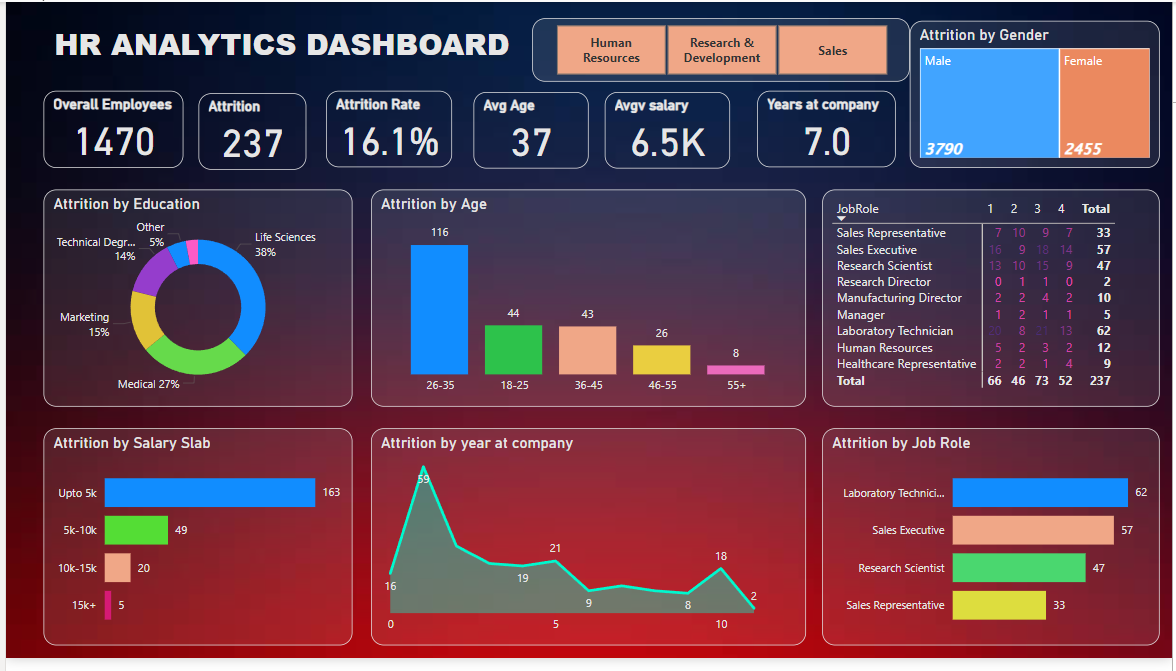

The page's visual inventory and layout, read from the dashboard file:
{"tool":"powerbi","page":{"name":"Page 1","canvas":[1280,720],"ordinal":0},"visuals":[{"type":"card","title":"Overall Employees","fields":{"Values":["Sum(HR_Analytics.EmployeeCount)"]},"box":[41.2,97.4,153.7,85.1],"z":0},{"type":"card","title":"Avg Age","fields":{"Values":["Avg(HR_Analytics.Age)"]},"box":[513.2,98.8,126.2,83.7],"z":1000},{"type":"card","title":"Attrition Rate","fields":{"Values":["HR_Analytics.AttritionRate"]},"box":[351.3,97.4,138.6,83.7],"z":2000},{"type":"card","title":"Attrition","fields":{"Values":["Sum(HR_Analytics.attritionCount)"]},"box":[211.3,100.2,118,83.7],"z":3000},{"type":"card","title":"Years at company","fields":{"Values":["Avg(HR_Analytics.YearsAtCompany)"]},"box":[824.7,97.4,152.3,83.7],"z":4000},{"type":"card","title":"Avgv salary","fields":{"Values":["Avg(HR_Analytics.MonthlyIncome)"]},"box":[657.3,98.8,137.2,83.7],"z":5000},{"type":"donutChart","title":"Attrition by Education","fields":{"Category":["HR_Analytics.EducationField"],"Y":["Sum(HR_Analytics.attritionCount)"]},"box":[41.2,205.8,338.9,238.8],"z":6000},{"type":"columnChart","title":"Attrition by Age","fields":{"Category":["HR_Analytics.AgeGroup"],"Y":["Sum(HR_Analytics.attritionCount)"]},"box":[400.7,205.8,477.5,238.8],"z":7000},{"type":"pivotTable","fields":{"Rows":["HR_Analytics.JobRole"],"Values":["Sum(HR_Analytics.attritionCount)"],"Columns":["HR_Analytics.JobSatisfaction"]},"box":[896.1,205.8,370.5,238.8],"z":8000},{"type":"barChart","title":"Attrition by Salary Slab","fields":{"Category":["HR_Analytics.SalarySlab"],"Y":["Sum(HR_Analytics.attritionCount)"]},"box":[41.2,467.9,338.9,238.8],"z":9000},{"type":"barChart","title":"Attrition by Job Role","fields":{"Category":["HR_Analytics.JobRole"],"Y":["Sum(HR_Analytics.attritionCount)"]},"box":[896.1,467.9,370.5,238.8],"z":10000},{"type":"areaChart","title":"Attrition by year at company","fields":{"Category":["HR_Analytics.YearsAtCompany"],"Y":["Sum(HR_Analytics.attritionCount)"]},"box":[400.7,467.9,477.5,238.8],"z":11000},{"type":"treemap","title":"Attrition by Gender","fields":{"Group":["HR_Analytics.Gender"],"Values":["Sum(HR_Analytics.YearsAtCompany)"]},"box":[992.1,20.6,274.4,161.9],"z":12000},{"type":"slicer","fields":{"Values":["HR_Analytics.Department"]},"box":[577.7,17.8,414.4,70],"z":13000},{"type":"textbox","box":[48,17.8,529.7,70],"z":14000}]}

Visuals, with their boxes in screenshot pixels (x1, y1, x2, y2), scaled from the page's 1280x720 canvas onto the 1176x671 screenshot:
"Overall Employees" card: rect(38, 91, 179, 170)
"Avg Age" card: rect(472, 92, 587, 170)
"Attrition Rate" card: rect(323, 91, 450, 169)
"Attrition" card: rect(194, 93, 303, 171)
"Years at company" card: rect(758, 91, 898, 169)
"Avgv salary" card: rect(604, 92, 730, 170)
"Attrition by Education" donutChart: rect(38, 192, 349, 414)
"Attrition by Age" columnChart: rect(368, 192, 807, 414)
pivotTable - HR_Analytics.JobRole x Sum(HR_Analytics.attritionCount): rect(823, 192, 1164, 414)
"Attrition by Salary Slab" barChart: rect(38, 436, 349, 659)
"Attrition by Job Role" barChart: rect(823, 436, 1164, 659)
"Attrition by year at company" areaChart: rect(368, 436, 807, 659)
"Attrition by Gender" treemap: rect(911, 19, 1164, 170)
slicer - HR_Analytics.Department: rect(531, 17, 911, 82)
textbox: rect(44, 17, 531, 82)
